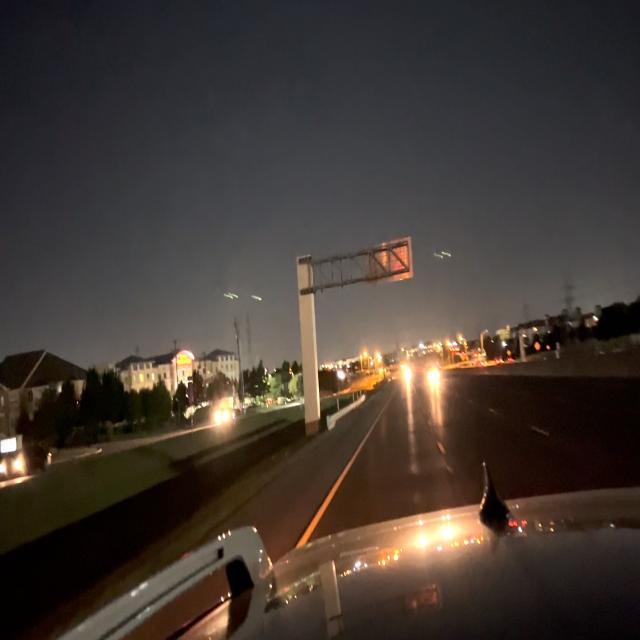back-of-sign: (366, 233, 415, 294)
